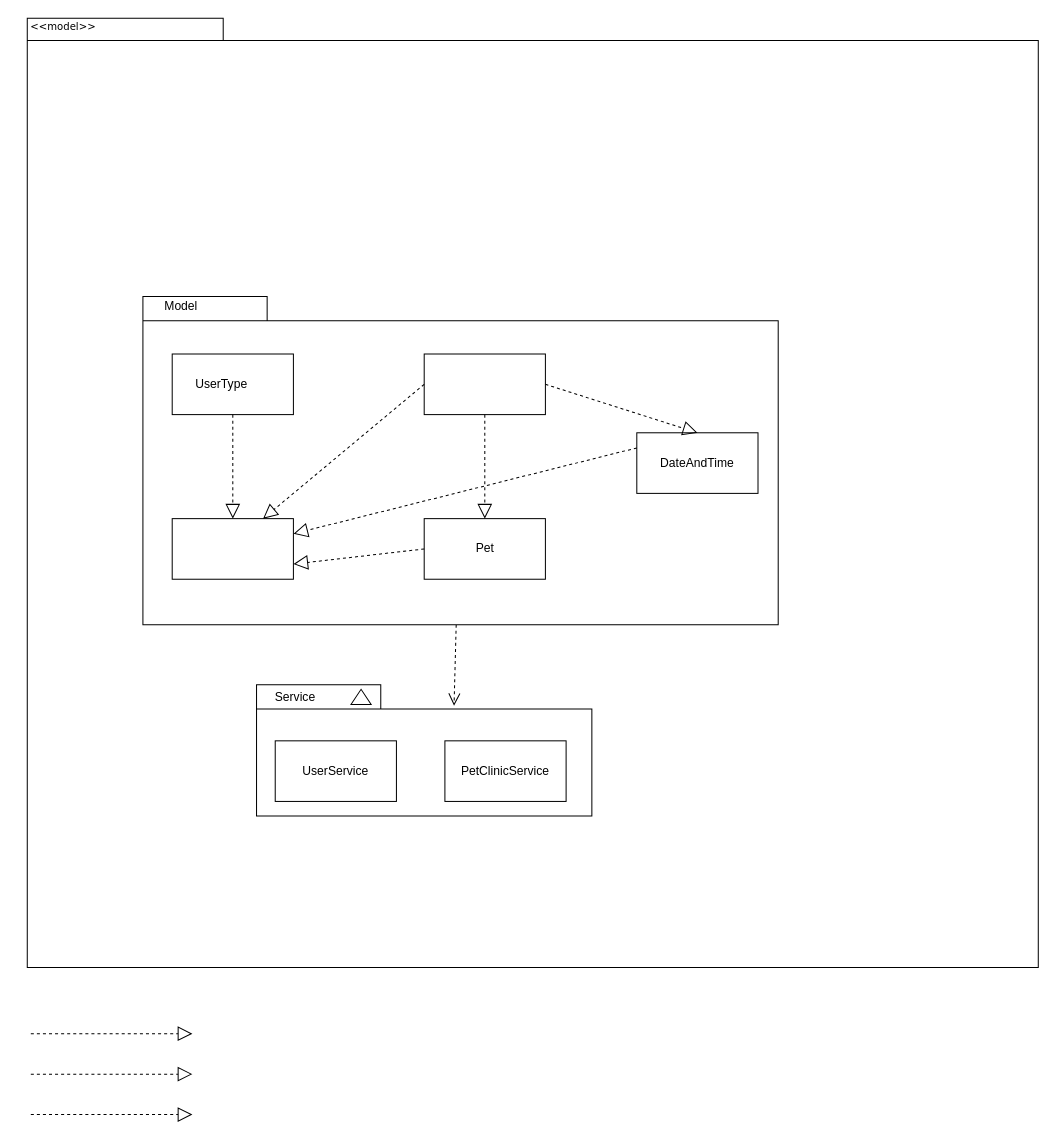
This 1056x1146 diagram has some shape labels left out. Here are the shapes that lost their labels. From the top down, the centre of each, then its label:
At pixel 484 384: "Appointment".
At pixel 232 548: "User".
